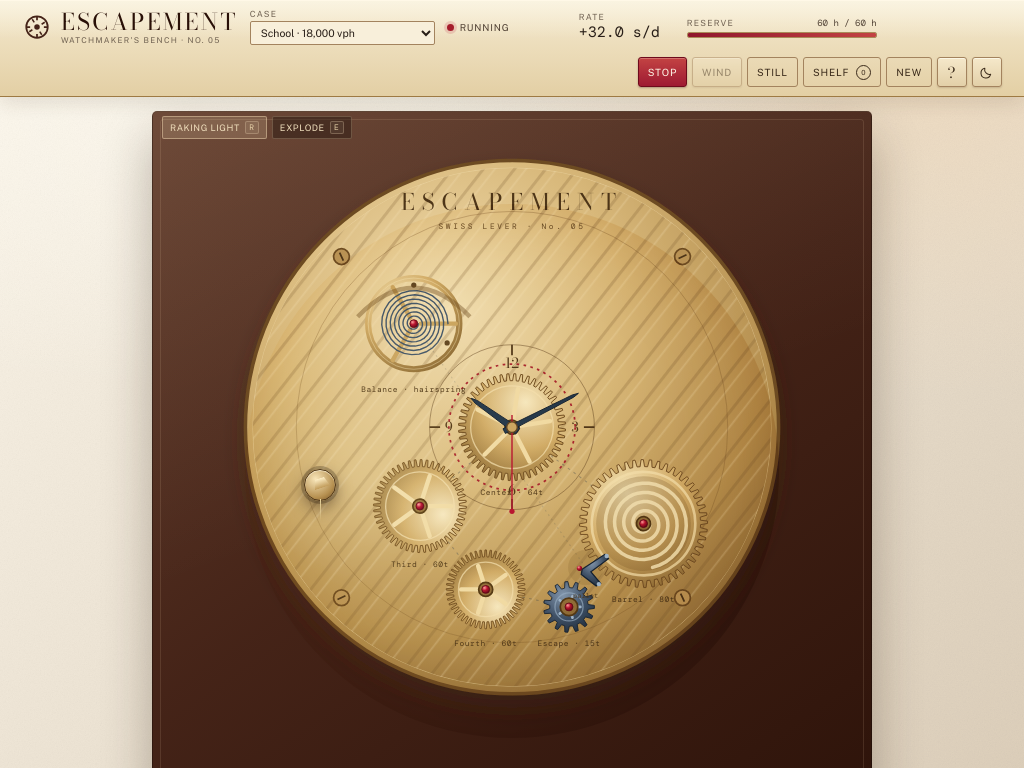
Test: bench shell › shows the Pocket with an empty fourth socket and a disabled test
Select "Pocket · 21,600 vph" in the dropdown labelled "Case" at (342, 33), box [250, 21, 435, 45]
(page scrolled)
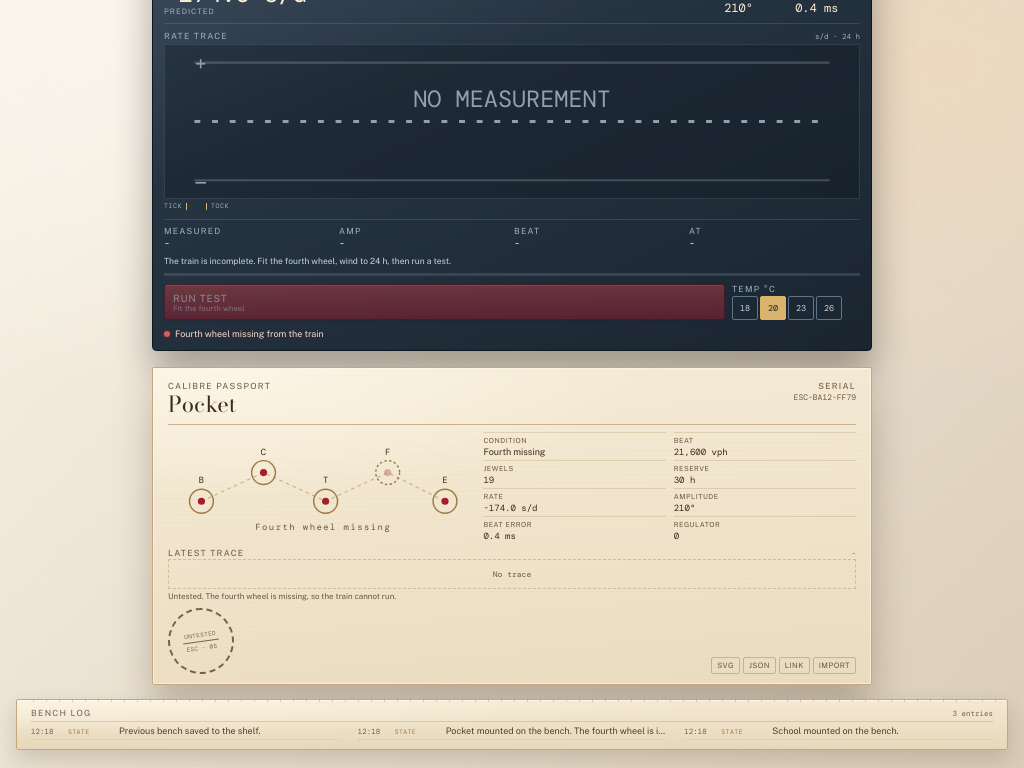
Expected: the button "Run test Fit the fourth wheel" is disabled, [164, 284, 725, 320]
Expected: the text "fourth wheel is in the spares tray" is shown, [446, 725, 730, 736]
